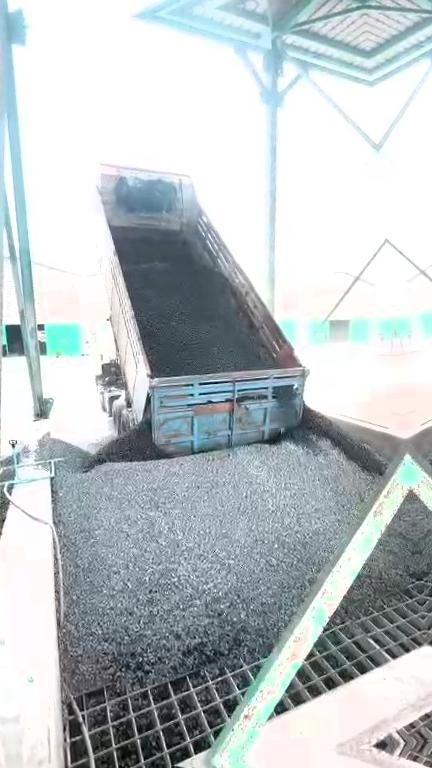gravel: (39, 401, 386, 692), (112, 232, 273, 376), (339, 495, 419, 616), (0, 453, 14, 530)
sand: (328, 384, 404, 432)
